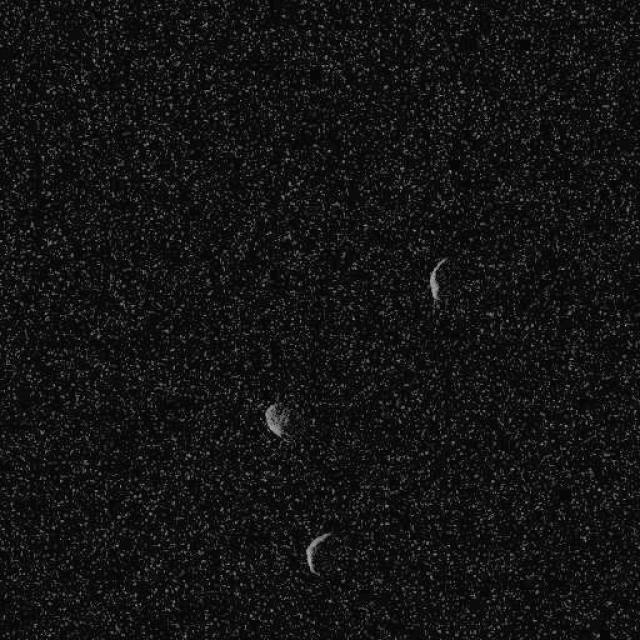D2: (304, 530, 332, 576), (262, 400, 290, 440), (428, 255, 448, 304)
